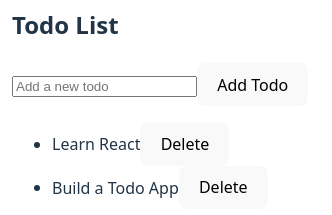
it: TodoList Component › deletes a todo item
The image size is (332, 215).
What coordinates should you click on to do the following:
click the button with test id "delete-1"
I would click on:
 (185, 144)
Its box is [140, 122, 230, 166].
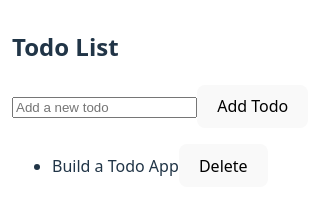
expect the list item "Learn React" is gone: met
